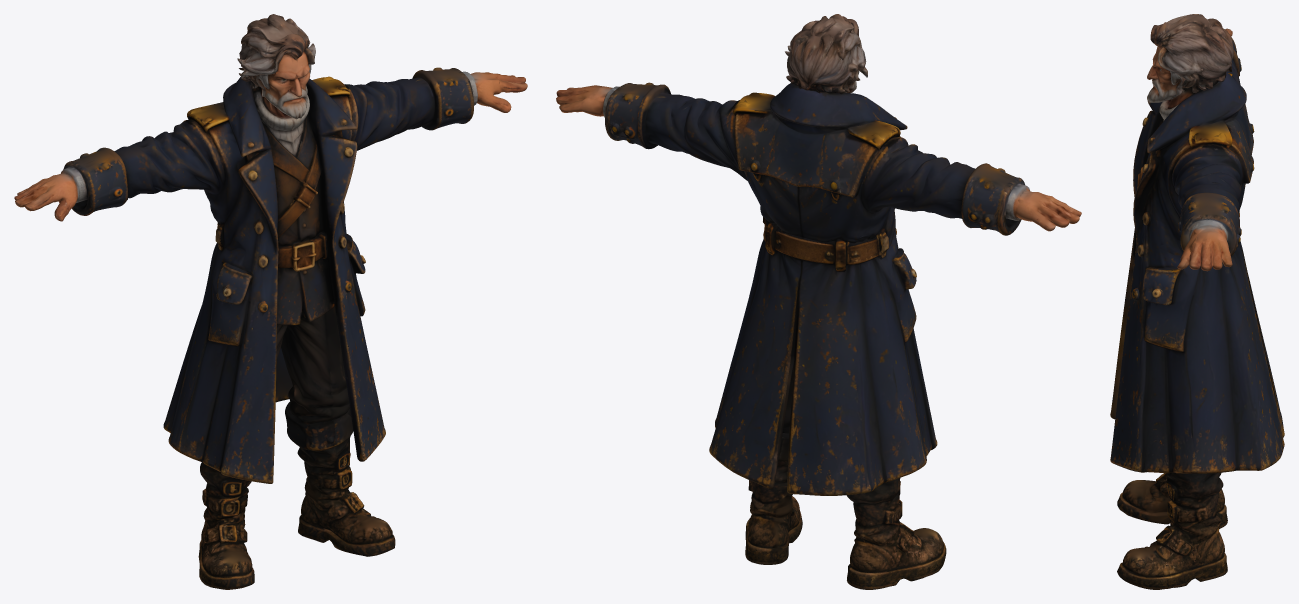
The model's file is ted_fal_v3.glb.
3 views of the same model, side by side, from view 1: azimuth 30°, elevation 25°; view 2: azimuth 150°, elevation 25°; view 3: azimuth 270°, elevation 25° (orthographic). The views are drawn at different scales.
Visible parts, largest first — view 1: material; view 2: material; view 3: material.
Boxes of the visible parts, x1=… form: material: x1=14, y1=14, x2=527, y2=589; material: x1=556, y1=14, x2=1081, y2=589; material: x1=1110, y1=14, x2=1284, y2=589.
Bounding box in the file's own units: 1.06 × 1.06 × 0.3168.
1 material, 1 textured.
